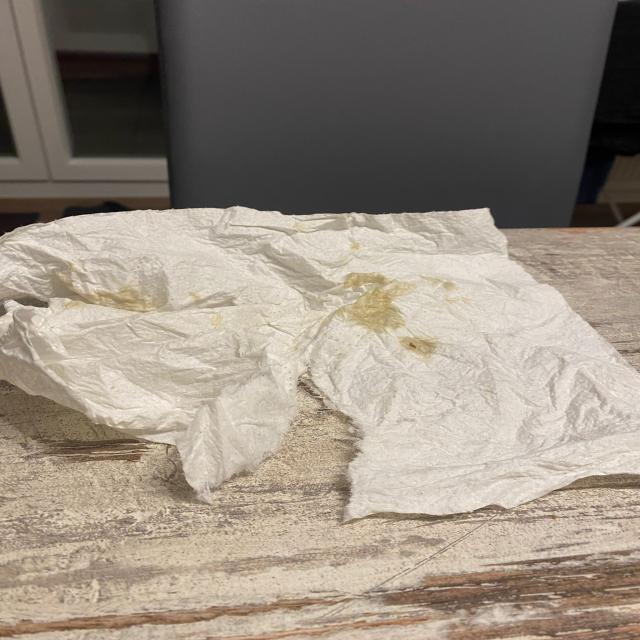kitchen paper: (0, 204, 640, 524)
